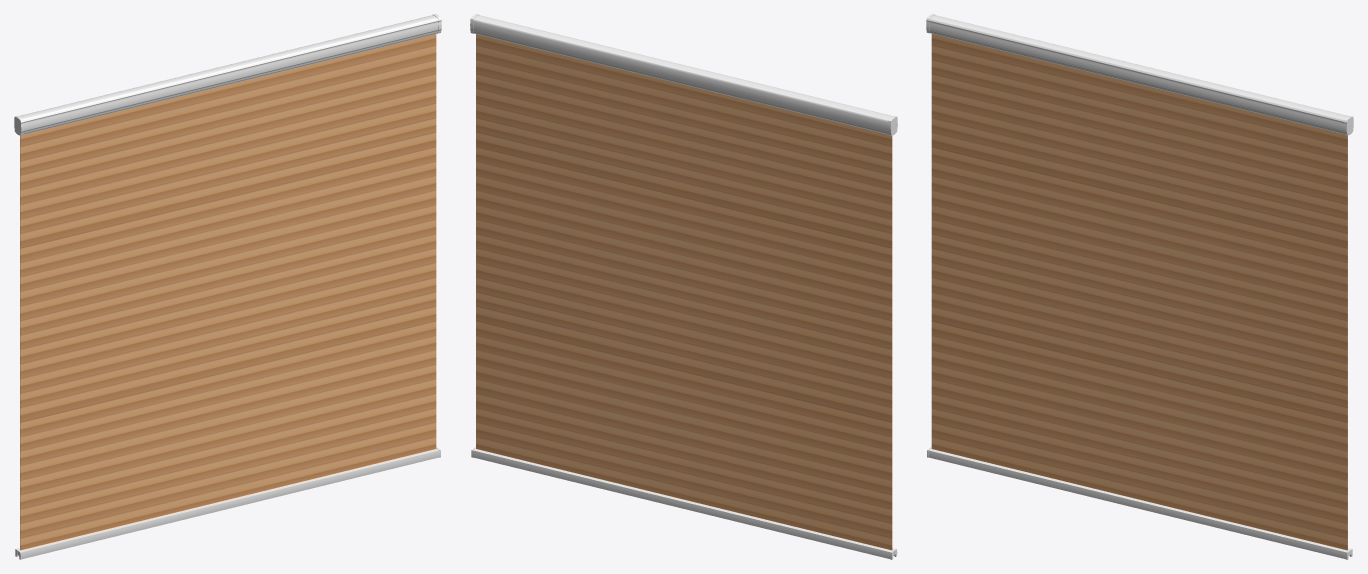
3 renders of one model, left to right at view 1: azimuth 30°, elevation 25°; view 2: azimuth 150°, elevation 25°; view 3: azimuth 330°, elevation 25°, orthographic.
Visible parts, largest first — view 1: Plane.003, BezierCurve.049, Cube.012; view 2: Plane.003, BezierCurve.049, Cube.012; view 3: Plane.003, BezierCurve.049, Cube.012.
Boxes of the visible parts, x1,y1,x2,y2 form: Plane.003: (20, 33, 436, 550); BezierCurve.049: (19, 15, 438, 133); Cube.012: (17, 448, 439, 559); Plane.003: (476, 34, 892, 550); BezierCurve.049: (473, 15, 892, 134); Cube.012: (472, 448, 895, 559); Plane.003: (931, 33, 1347, 550); BezierCurve.049: (929, 15, 1348, 133); Cube.012: (928, 448, 1350, 559).
Bounding box in the file's own units: 0.9998 × 0.9996 × 0.0289.
3 materials, 1 textured.
